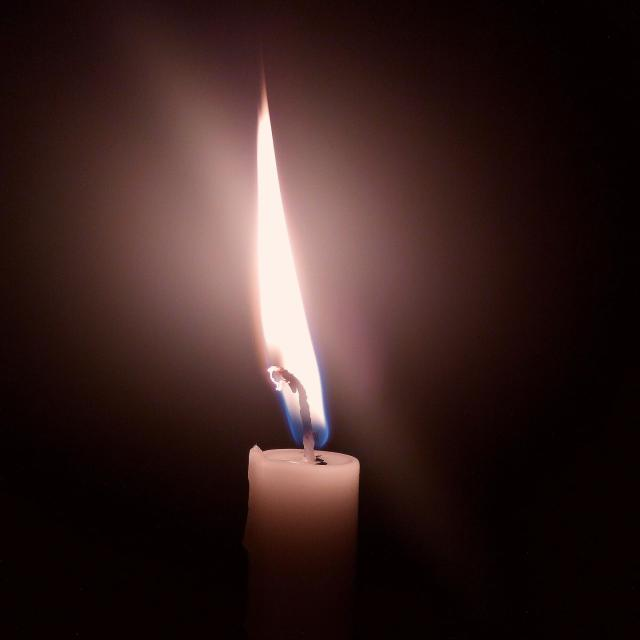Fire_Save: (252, 50, 330, 450)
